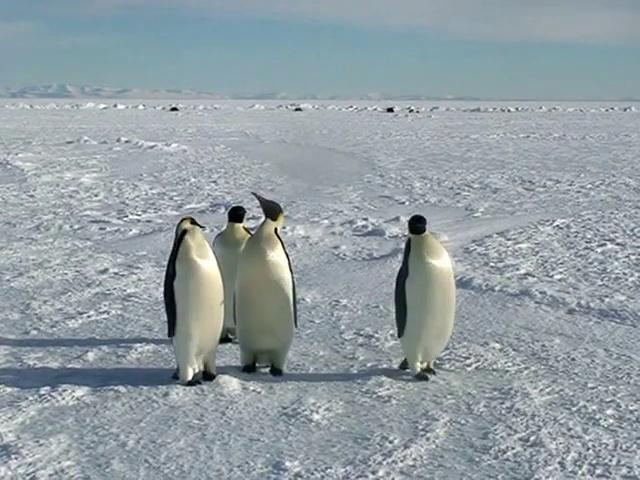animal: (395, 215, 455, 379)
